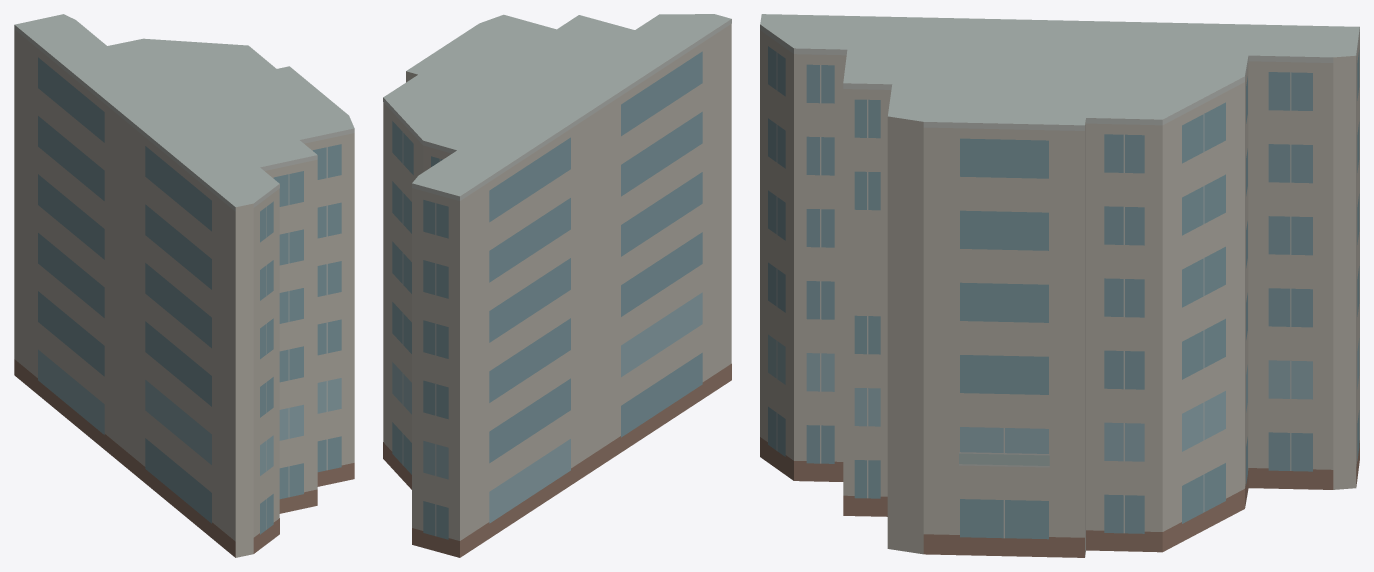
Rendered from survey-upis-32957686.glb.
The picture shows the model from 3 angles, left to right: view 1: azimuth 30°, elevation 25°; view 2: azimuth 150°, elevation 25°; view 3: azimuth 270°, elevation 25°; orthographic projection. The views are drawn at different scales.
Parts seen in each view (by area): view 1: survey-upis-32957686.tmp; view 2: survey-upis-32957686.tmp; view 3: survey-upis-32957686.tmp.
Part boxes in pixels (x1,y1,x2,y2): survey-upis-32957686.tmp: [14, 14, 354, 557]; survey-upis-32957686.tmp: [383, 14, 731, 557]; survey-upis-32957686.tmp: [760, 14, 1359, 557].
Bounding box in the file's own units: 10.28 × 18.6 × 23.38.
